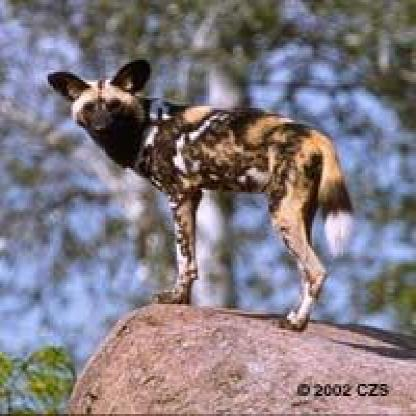African_hunting_dog: (43, 60, 350, 326)
